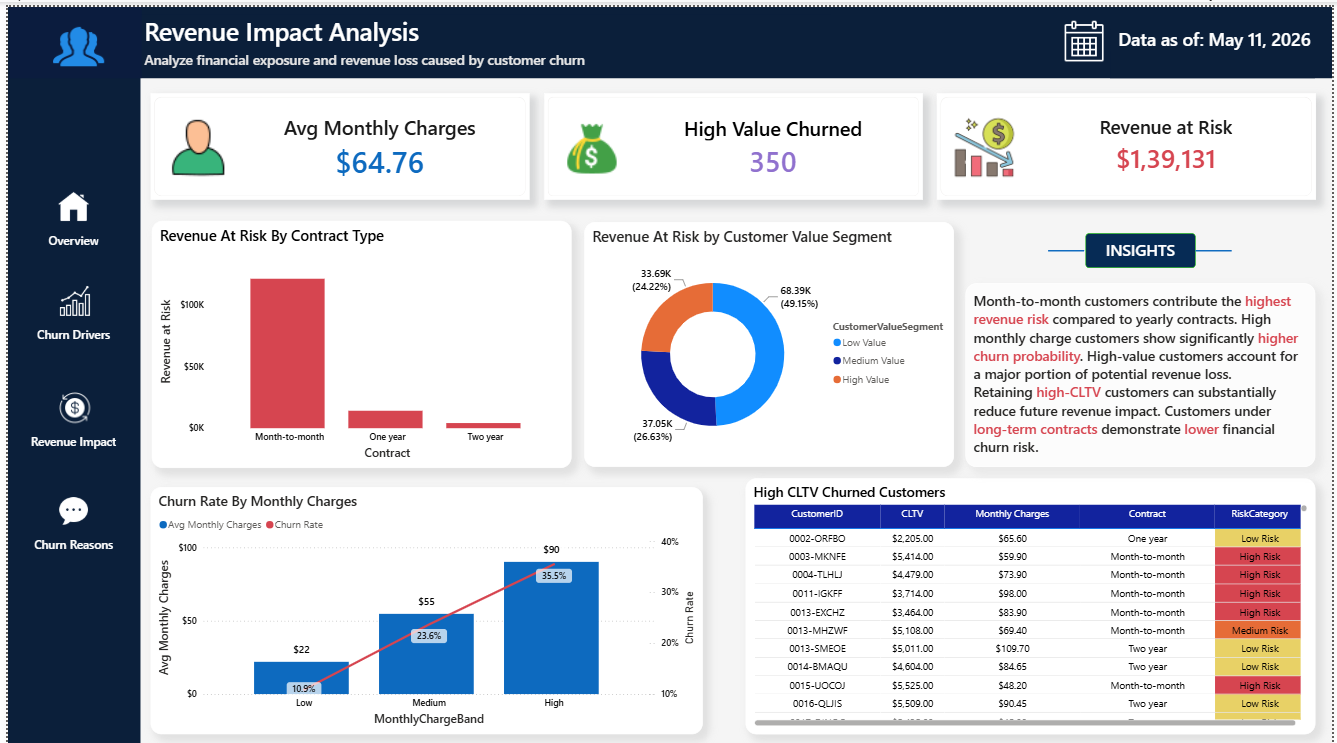

The dashboard page shown, as its layout file describes it:
{"tool":"powerbi","page":{"name":" Revenue Impact Analysis","canvas":[1800,1000],"ordinal":2},"visuals":[{"type":"shape","box":[0,0,1800.3,96.8],"z":0},{"type":"textbox","title":" Revenue Impact Analysis","box":[180,10.2,937.5,74.7],"z":1000},{"type":"shape","box":[0,0,180,1000.3],"z":2000},{"type":"cardVisual","title":"Total Customers","fields":{"Data":["churn_data.Avg Monthly Charges"]},"box":[194,117.5,515,145],"z":3000},{"type":"cardVisual","title":"Total Customers","fields":{"Data":["churn_data.Revenue at Risk"]},"box":[1262.2,117.5,515,145],"z":4000},{"type":"cardVisual","title":" ","fields":{"Data":["churn_data.High Value Churned"]},"box":[728.6,117.2,514.6,145],"z":5000},{"type":"columnChart","title":" Revenue At Risk By Contract Type","fields":{"Y":["churn_data.Revenue at Risk"],"Category":["churn_data.Contract"]},"box":[195.3,290.4,570.7,336.3],"z":6000},{"type":"donutChart","title":" Revenue At Risk by Customer Value Segment","fields":{"Y":["Sum(churn_data.RevenueAtRisk)"],"Category":["churn_data.CustomerValueSegment"]},"box":[783,292.1,502.7,332.9],"z":7000},{"type":"textbox","title":"Data as of: May 11, 2026","box":[1498,27.2,276.8,69.6],"z":8000},{"type":"image","box":[1389.3,18.7,146.1,57.7],"z":9000},{"type":"lineStackedColumnComboChart","title":"Churn Rate By Monthly Charges","fields":{"Y2":["churn_data.Churn Rate"],"Category":["churn_data.MonthlyChargeBand"],"Y":["churn_data.Avg Monthly Charges"]},"box":[193.6,652.2,750.7,336.3],"z":10000},{"type":"tableEx","title":"High CLTV Churned Customers","fields":{"Values":["churn_data.CustomerID","churn_data.CLTV","churn_data.Monthly Charges","churn_data.Contract","churn_data.RiskCategory"]},"box":[1002,640.3,774.5,348.2],"z":11000},{"type":"textbox","box":[1301,375.3,475.5,249.7],"z":12000},{"type":"textbox","box":[1464,307.4,149.5,47.6],"z":13000},{"type":"shape","box":[1413.1,181.7,49.3,298.9],"z":14000},{"type":"shape","box":[1613.5,181.7,49.3,298.9],"z":15000},{"type":"actionButton","box":[23.8,227.6,130.8,103.6],"z":16000},{"type":"actionButton","box":[23.8,640.3,130.8,103.6],"z":17000},{"type":"actionButton","box":[23.8,501,130.8,103.6],"z":18000},{"type":"actionButton","box":[23.8,355,130.8,103.6],"z":19000},{"type":"image","box":[67.9,212.3,42.5,118.9],"z":20000},{"type":"image","box":[69.6,339.7,42.5,117.2],"z":21000},{"type":"image","box":[69.6,485.7,42.5,117.2],"z":22000},{"type":"image","box":[67.9,625,42.5,117.2],"z":23000},{"type":"shape","box":[1.7,0,180,96.8],"z":24000},{"type":"image","box":[61.1,13.6,69.6,83.2],"z":25000}]}

Visuals, with their boxes in screenshot pixels (x1, y1, x2, y2), scaled from the page's 1800x1000 canvas onto the 1337x743 screenshot:
shape: 0:0:1336:72
" Revenue Impact Analysis" textbox: 134:8:830:63
shape: 0:0:134:742
"Total Customers" cardVisual: 144:87:527:195
"Total Customers" cardVisual: 938:87:1320:195
" " cardVisual: 541:87:923:195
" Revenue At Risk By Contract Type" columnChart: 145:216:569:466
" Revenue At Risk by Customer Value Segment" donutChart: 582:217:955:464
"Data as of: May 11, 2026" textbox: 1113:20:1318:72
image: 1032:14:1140:57
"Churn Rate By Monthly Charges" lineStackedColumnComboChart: 144:485:701:734
"High CLTV Churned Customers" tableEx: 744:476:1320:734
textbox: 966:279:1320:464
textbox: 1087:228:1198:264
shape: 1050:135:1086:357
shape: 1198:135:1235:357
actionButton: 18:169:115:246
actionButton: 18:476:115:553
actionButton: 18:372:115:449
actionButton: 18:264:115:341
image: 50:158:82:246
image: 52:252:83:339
image: 52:361:83:448
image: 50:464:82:551
shape: 1:0:135:72
image: 45:10:97:72
